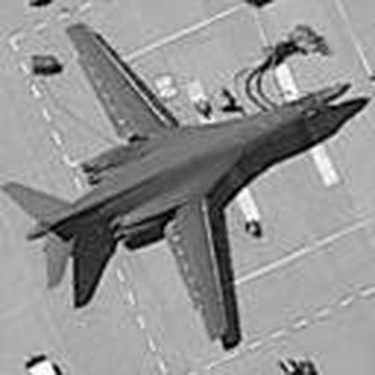airplane: (1, 18, 358, 346)
